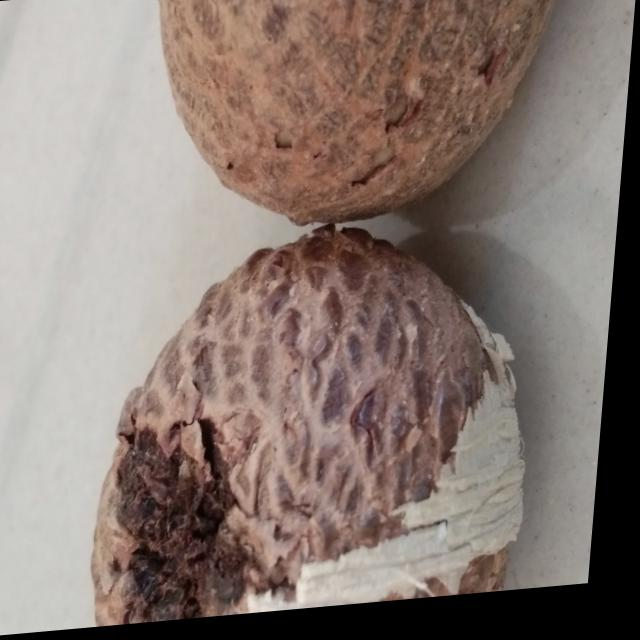karigot: (81, 225, 565, 631)
phatora: (122, 0, 591, 258)
